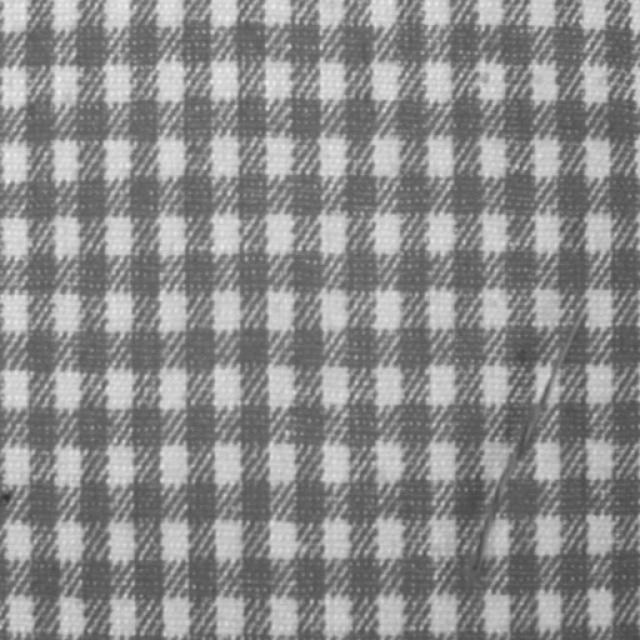Foreign-Body-Defect: (468, 310, 584, 589)
